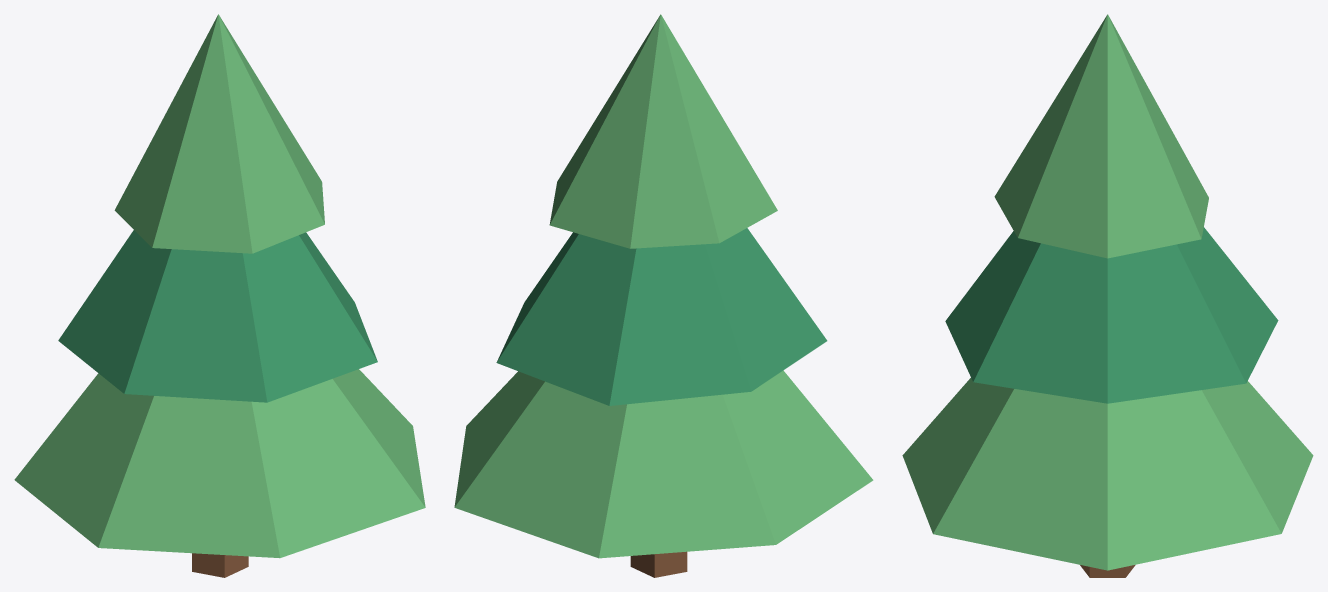
The model's file is tree_pine.glb.
3 views of the same model, side by side, from view 1: azimuth 30°, elevation 25°; view 2: azimuth 150°, elevation 25°; view 3: azimuth 270°, elevation 25° (orthographic).
Visible parts, largest first — view 1: Tier0, Tier1, Tier2, Trunk; view 2: Tier0, Tier1, Tier2, Trunk; view 3: Tier0, Tier1, Tier2.
Boxes of the visible parts, box(x1,y1,x2,y2) form: Tier0: box(14, 369, 425, 558); Tier1: box(58, 230, 377, 402); Tier2: box(114, 14, 324, 253); Trunk: box(192, 553, 248, 577); Tier0: box(454, 370, 873, 558); Tier1: box(496, 228, 827, 405); Tier2: box(549, 14, 777, 248); Trunk: box(630, 551, 687, 577); Tier0: box(902, 378, 1313, 570); Tier1: box(945, 227, 1278, 403); Tier2: box(994, 14, 1208, 258).
Size of the model in its own units: 0.8222 by 1.2 by 0.8075.
